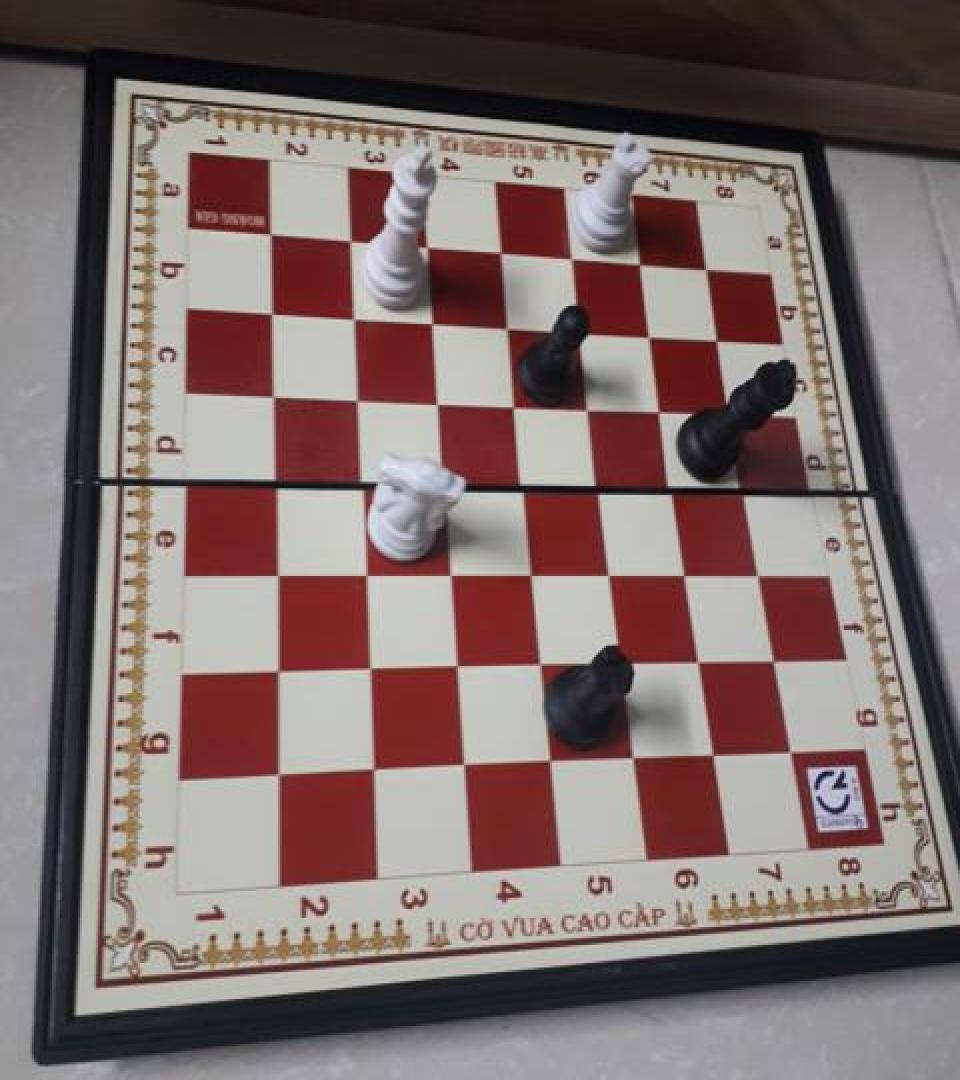xcorner: (255, 220, 285, 255), (690, 251, 720, 285), (623, 245, 653, 279), (554, 240, 584, 274), (483, 236, 513, 270), (410, 230, 440, 264), (334, 226, 364, 260), (702, 320, 732, 354), (634, 317, 664, 351), (563, 314, 593, 348), (490, 309, 520, 343), (415, 306, 445, 340), (256, 297, 286, 331), (715, 395, 745, 429), (645, 392, 675, 426), (572, 390, 602, 424), (497, 387, 527, 421), (420, 384, 450, 418), (340, 381, 370, 415), (257, 379, 287, 413), (728, 474, 758, 508), (656, 472, 686, 506), (582, 470, 612, 504), (505, 469, 535, 503), (426, 468, 456, 502), (343, 467, 373, 501), (742, 556, 772, 590), (668, 556, 698, 590), (592, 556, 622, 590), (513, 557, 543, 591), (432, 557, 462, 591), (347, 557, 377, 591), (258, 557, 288, 591), (757, 644, 787, 678), (603, 647, 633, 681), (522, 649, 552, 683), (438, 651, 468, 685), (259, 654, 289, 688), (772, 736, 802, 770), (695, 739, 725, 773), (615, 742, 645, 776), (531, 747, 561, 781), (354, 755, 384, 789), (261, 759, 291, 793), (337, 302, 367, 335), (258, 466, 288, 499), (681, 645, 711, 678), (350, 653, 380, 686), (445, 752, 475, 785)
